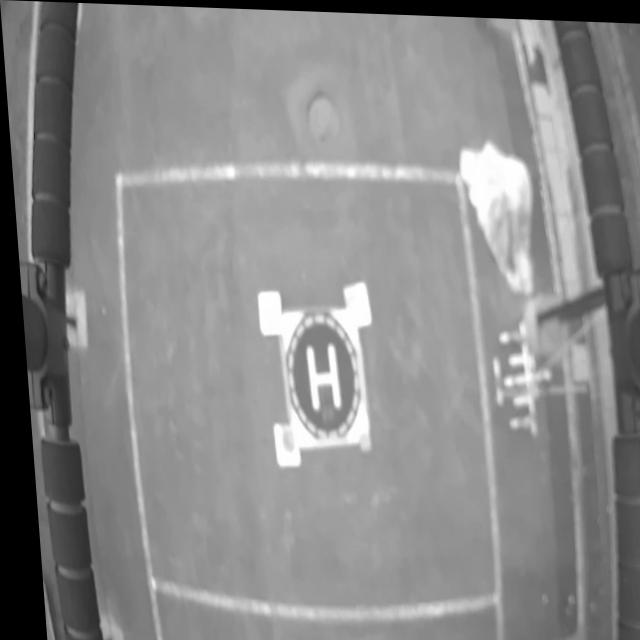Helipad: (302, 341, 336, 409)
